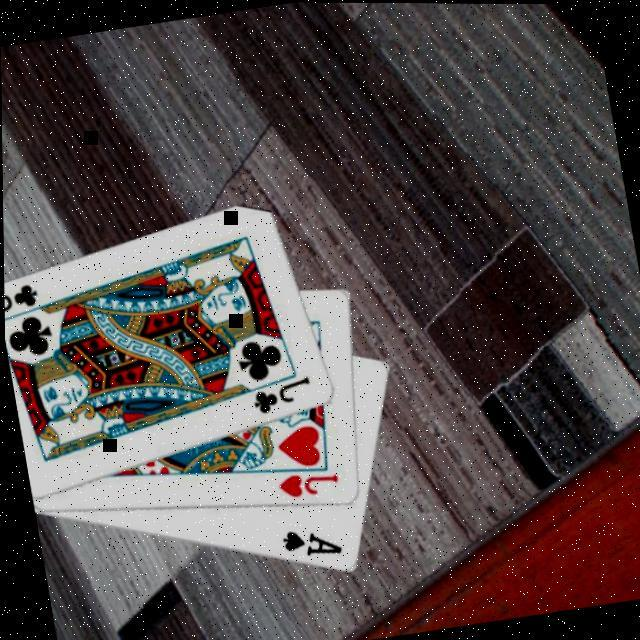AS: (274, 519, 344, 565)
JC: (244, 371, 316, 418), (4, 278, 42, 320)
JH: (270, 464, 340, 502)
